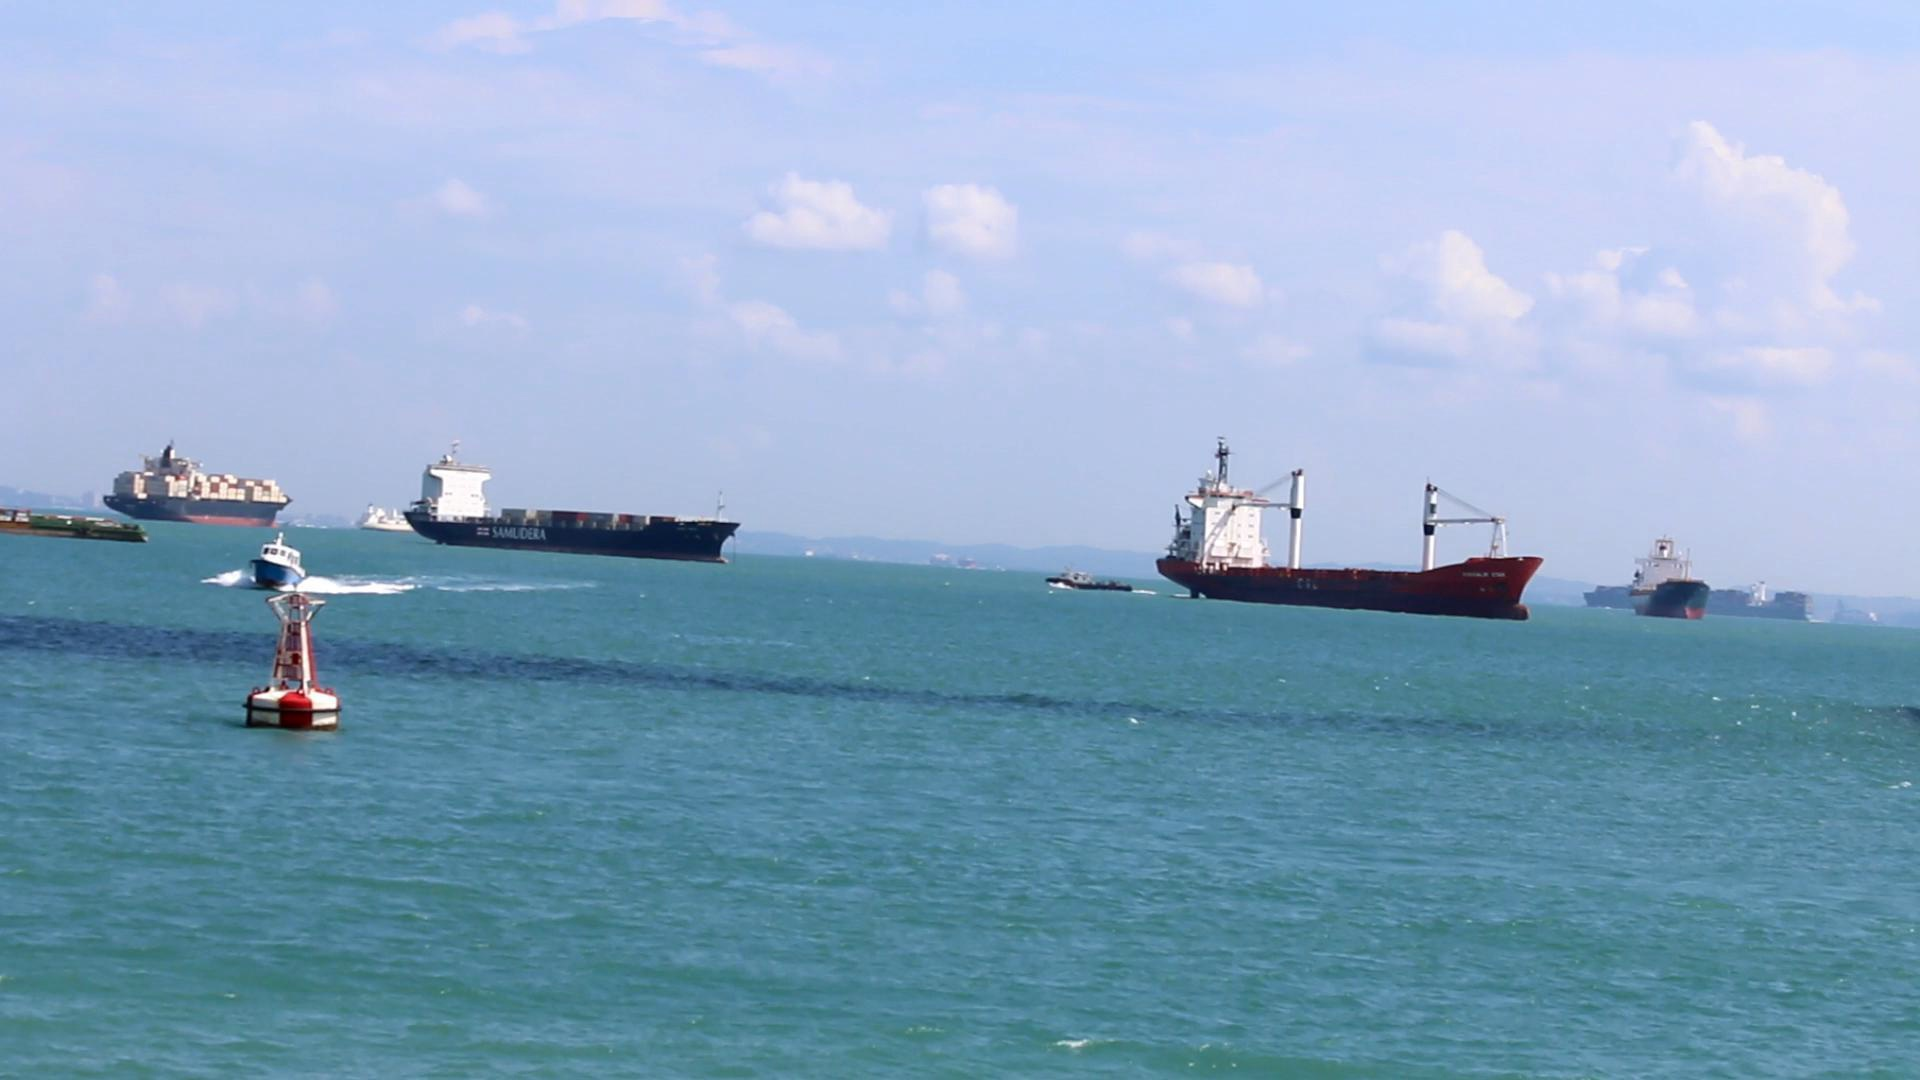Container Ship: (1155, 434, 1547, 625), (401, 442, 742, 567), (100, 435, 295, 529), (1581, 580, 1812, 625), (1627, 531, 1713, 624), (0, 505, 146, 546), (356, 502, 414, 535)
